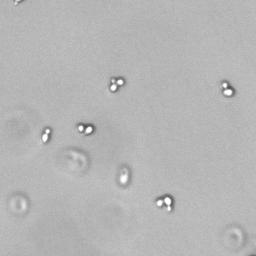budding: (153, 192, 175, 212), (74, 119, 96, 139), (105, 74, 126, 94), (217, 79, 237, 98), (39, 125, 53, 146)
